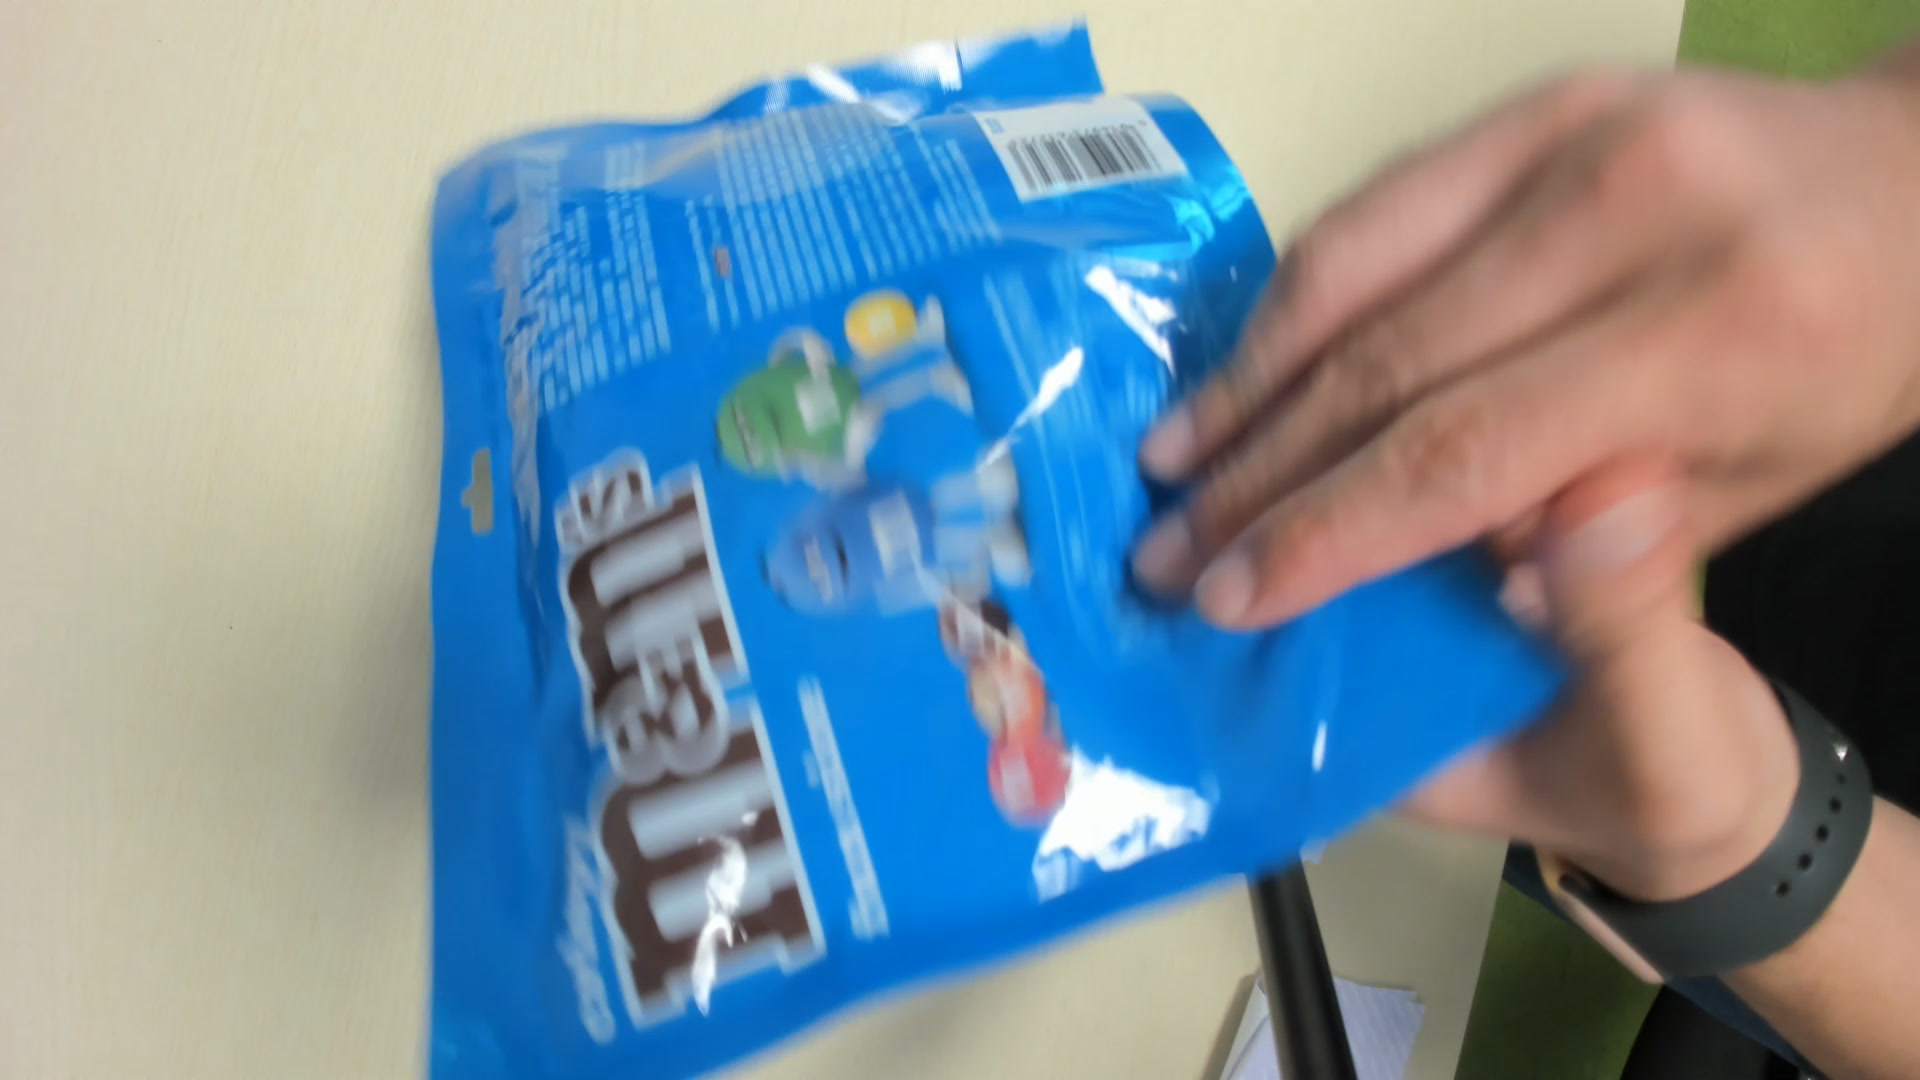SweetsChocolatesOthers_100-199g_Halal_Nonhealthy: (427, 38, 1592, 1080)
